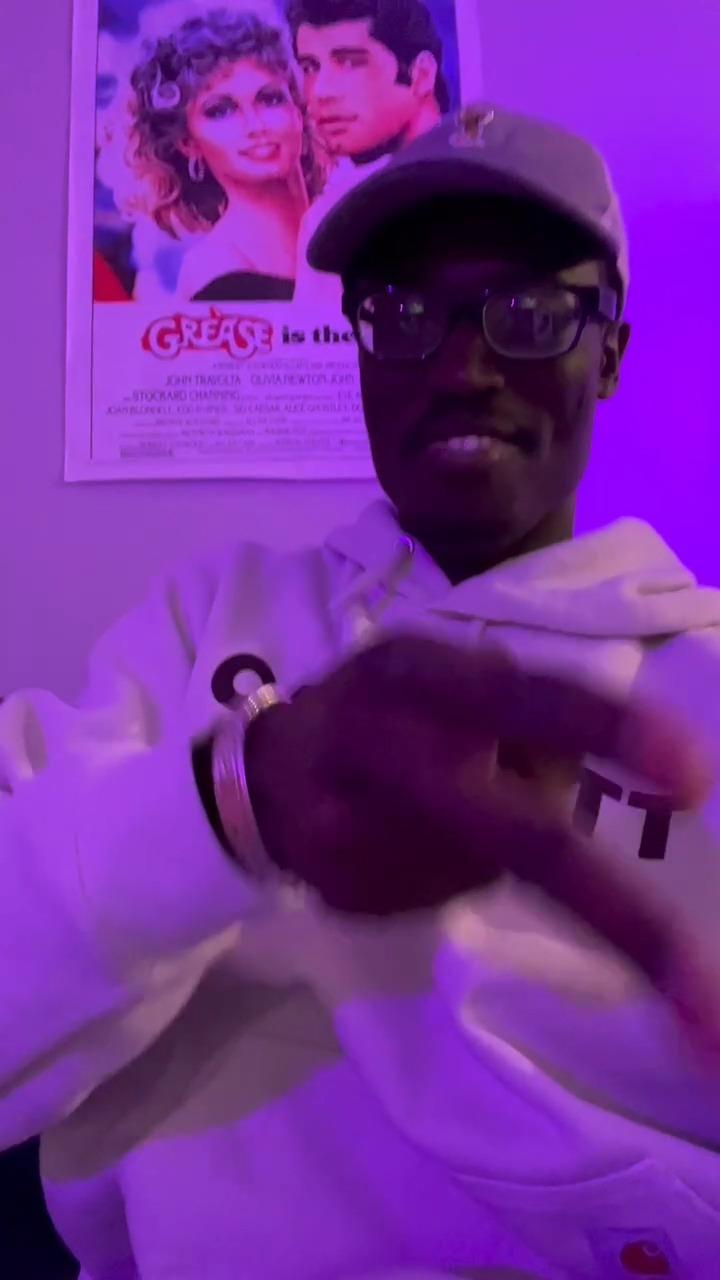Scissors: (230, 624, 720, 1042)
